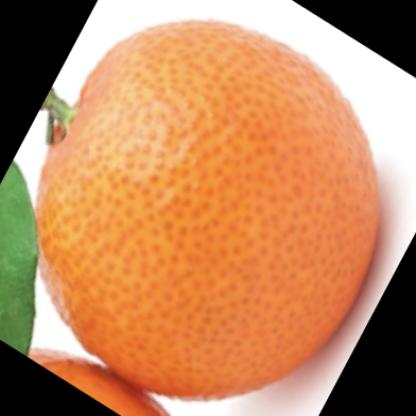fresh: (34, 20, 378, 403)
